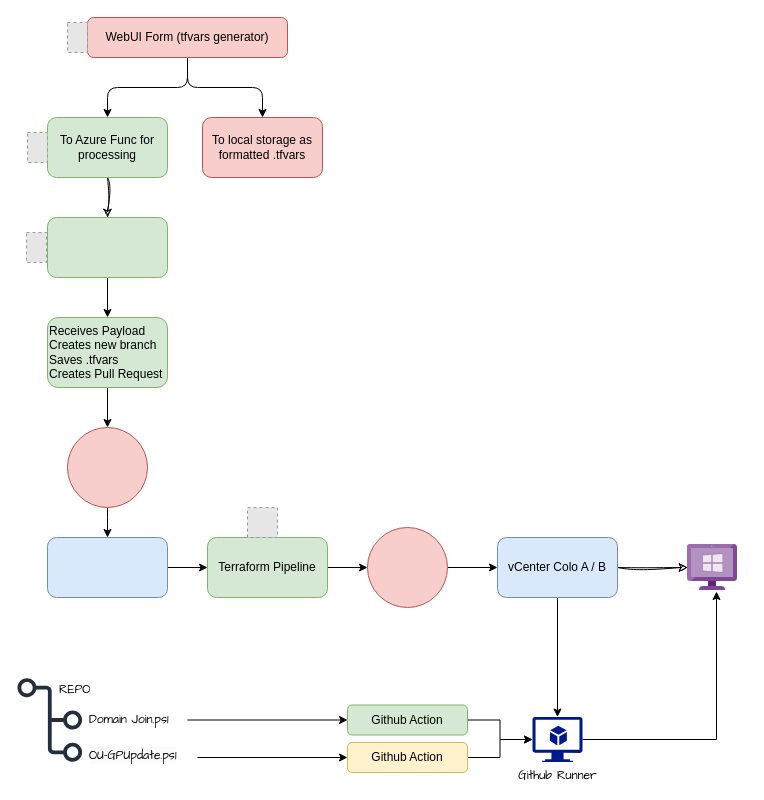
This 764x800 diagram has some shape labels left out. Grey dashed boxes stand in for pictures. Each missing label, with the centre of its shape:
Github Action Dispatch: the point at 107,247
Init/Plan/Apply: the point at 407,567
Merges Pull Request to Main branch: the point at 107,567
New Server: the point at 712,567
Pull Request Waits for Approval: the point at 107,467
